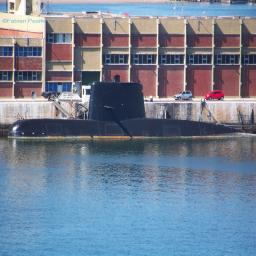submarine: (6, 82, 253, 136)
